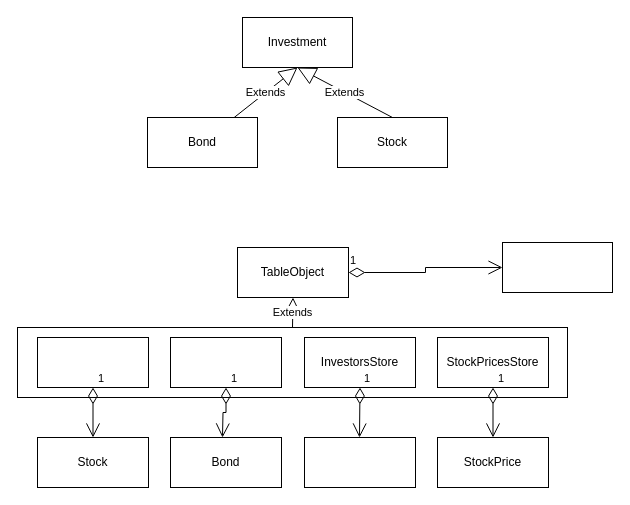
The diagram is 630 pixels wide and 505 high, and some of its shapes have lost their labels. The shapes that lost their labels are listed below. From the top down, each one's centre as x and y in pixels, then its label:
At pixel 557 267: "SQLite Connection".
At pixel 92 362: "StocksStore".
At pixel 226 362: "BondsStore".
At pixel 360 462: "Investor".
